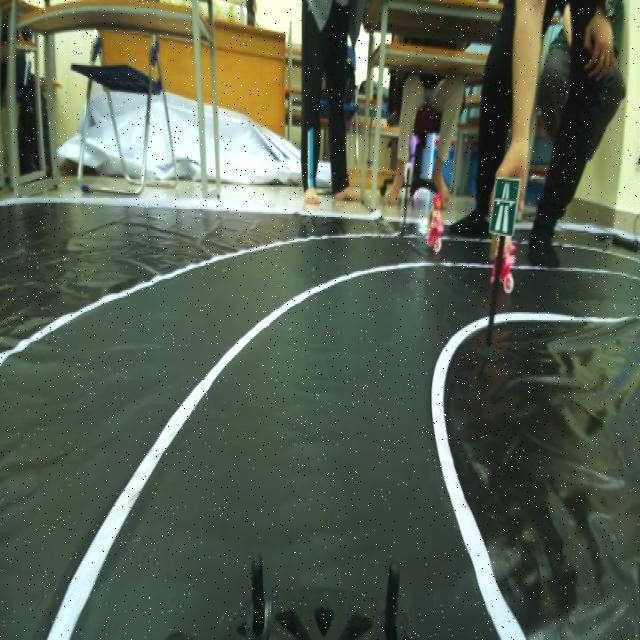highway_entry: (491, 170, 518, 240)
pedestrian: (488, 244, 520, 298), (426, 190, 450, 257)
